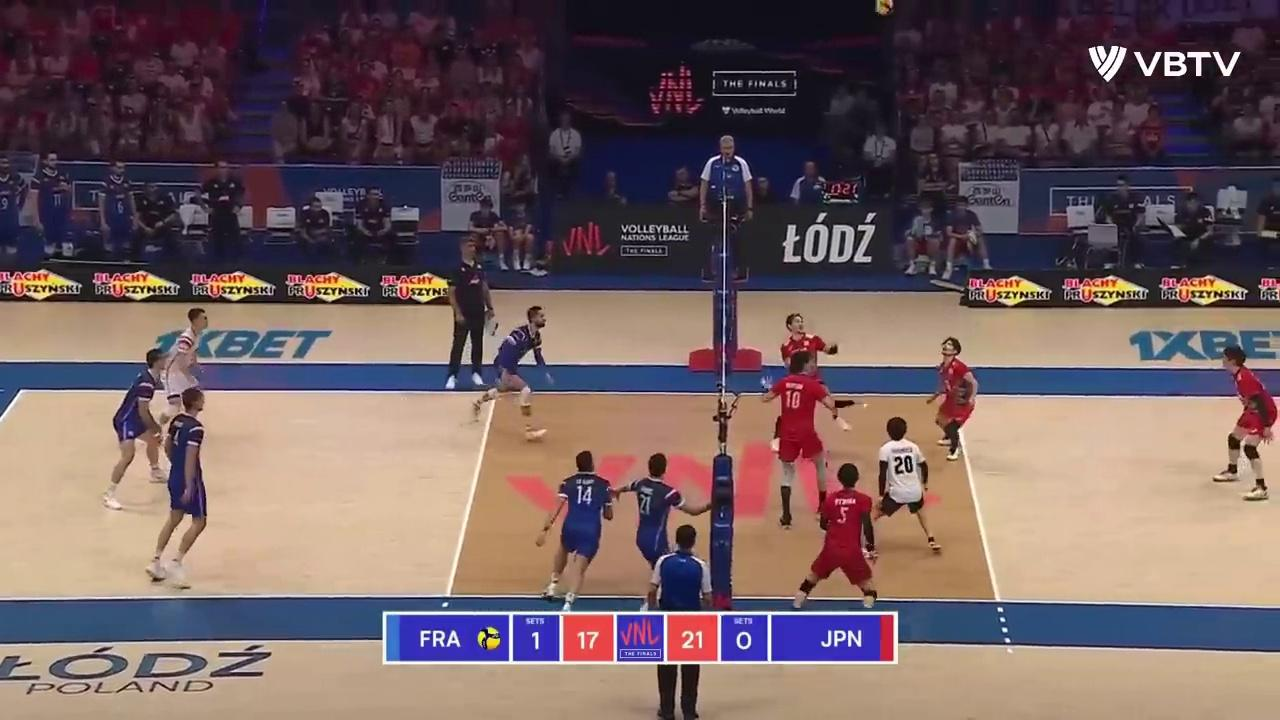ball: (874, 0, 895, 15)
